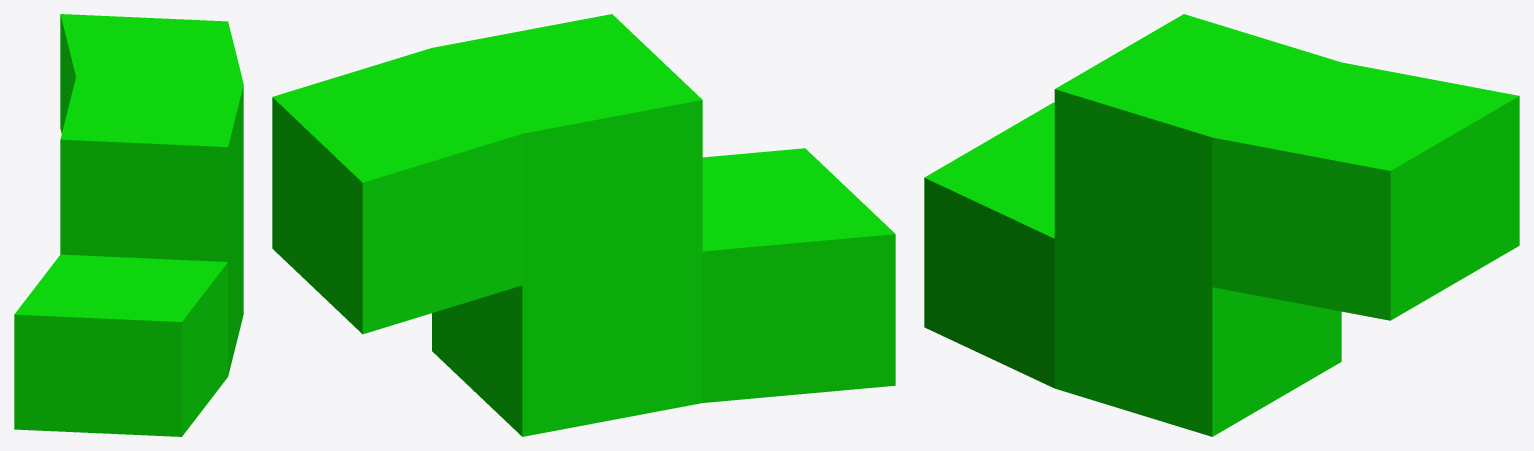
File: Piece3.fbx
The picture shows the model from 3 angles, left to right: view 1: azimuth 30°, elevation 25°; view 2: azimuth 150°, elevation 25°; view 3: azimuth 270°, elevation 25°; orthographic projection. The views are drawn at different scales.
Visible parts, largest first — view 1: Block3; view 2: Block3; view 3: Block3.
Part boxes in pixels (x1=…): Block3: x1=14, y1=14, x2=243, y2=436; Block3: x1=272, y1=14, x2=895, y2=436; Block3: x1=924, y1=14, x2=1519, y2=436.
Size of the model in its own units: 235 by 150 by 271.
